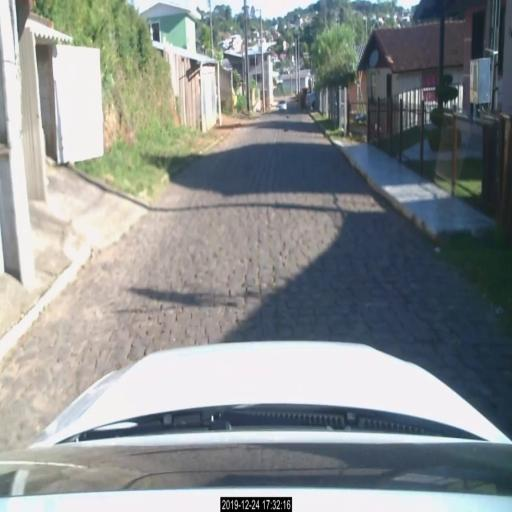Pothole: (2, 295, 100, 414)
